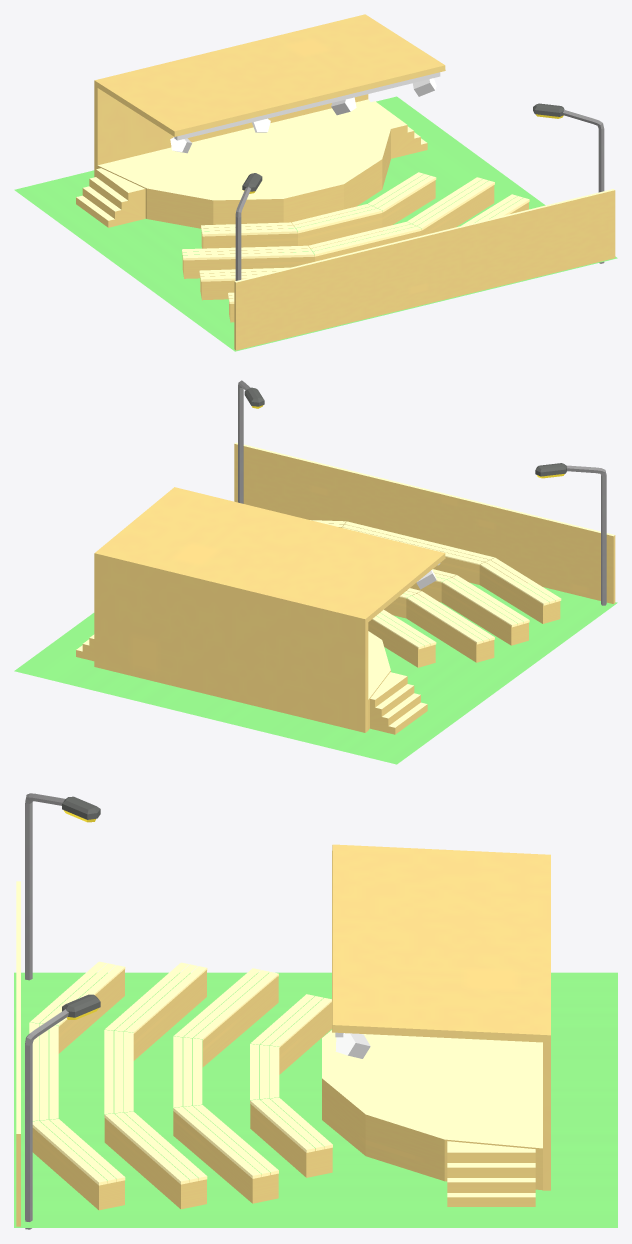
File: landscape_entertainments.003.glb
The picture shows the model from 3 angles, top to bottom: view 1: azimuth 30°, elevation 25°; view 2: azimuth 150°, elevation 25°; view 3: azimuth 270°, elevation 25°; orthographic projection. The views are drawn at different scales.
Parts seen in each view (by area): view 1: landscape_entertainments.003(Clone); view 2: landscape_entertainments.003(Clone); view 3: landscape_entertainments.003(Clone).
Boxes of the visible parts, x1=… form: landscape_entertainments.003(Clone): x1=14, y1=14, x2=617, y2=351; landscape_entertainments.003(Clone): x1=14, y1=380, x2=617, y2=764; landscape_entertainments.003(Clone): x1=14, y1=793, x2=617, y2=1229.
Bounding box in the file's own units: 16 × 6.02 × 16.
1 material, 1 textured.
